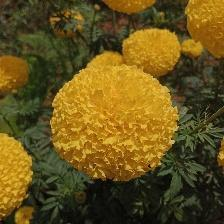marigold: (52, 64, 177, 187)
